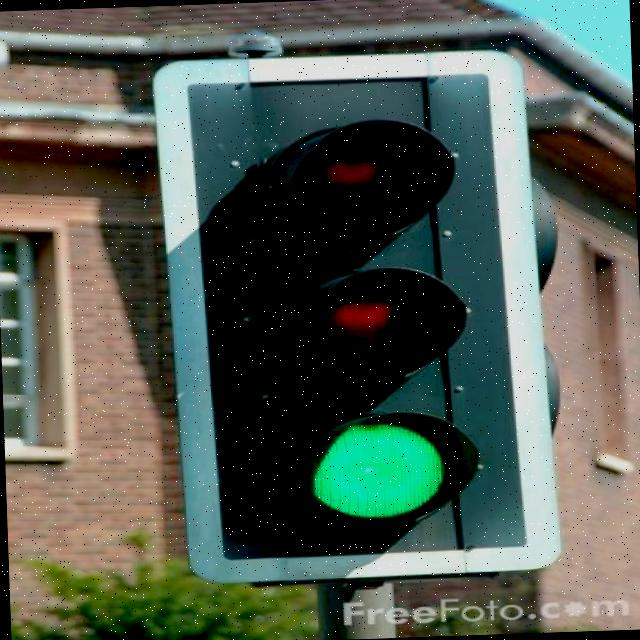Zielone swiatlo: (196, 74, 516, 550)
